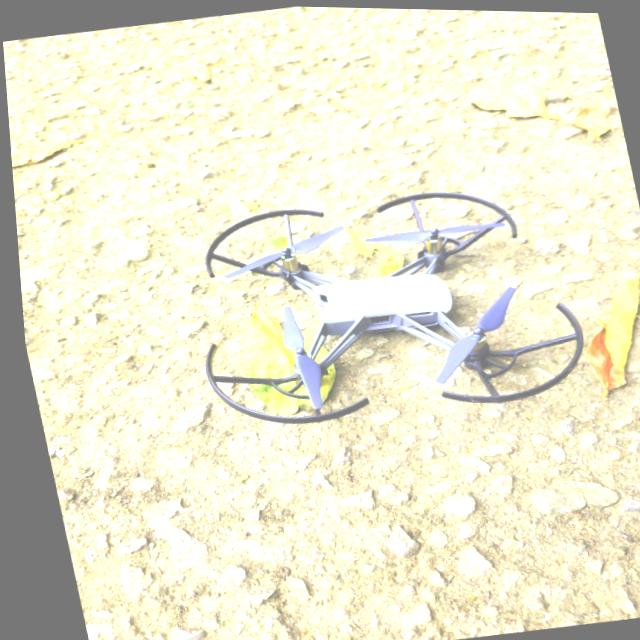drone: (190, 185, 586, 429)
